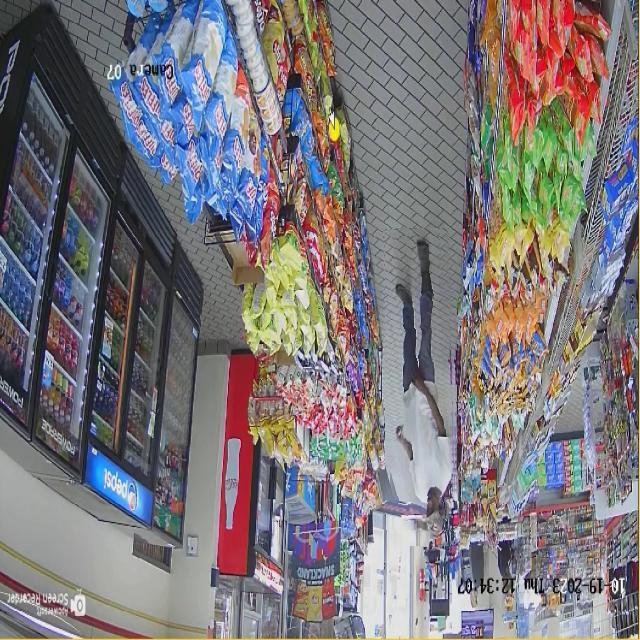Normal: (385, 228, 457, 548)
